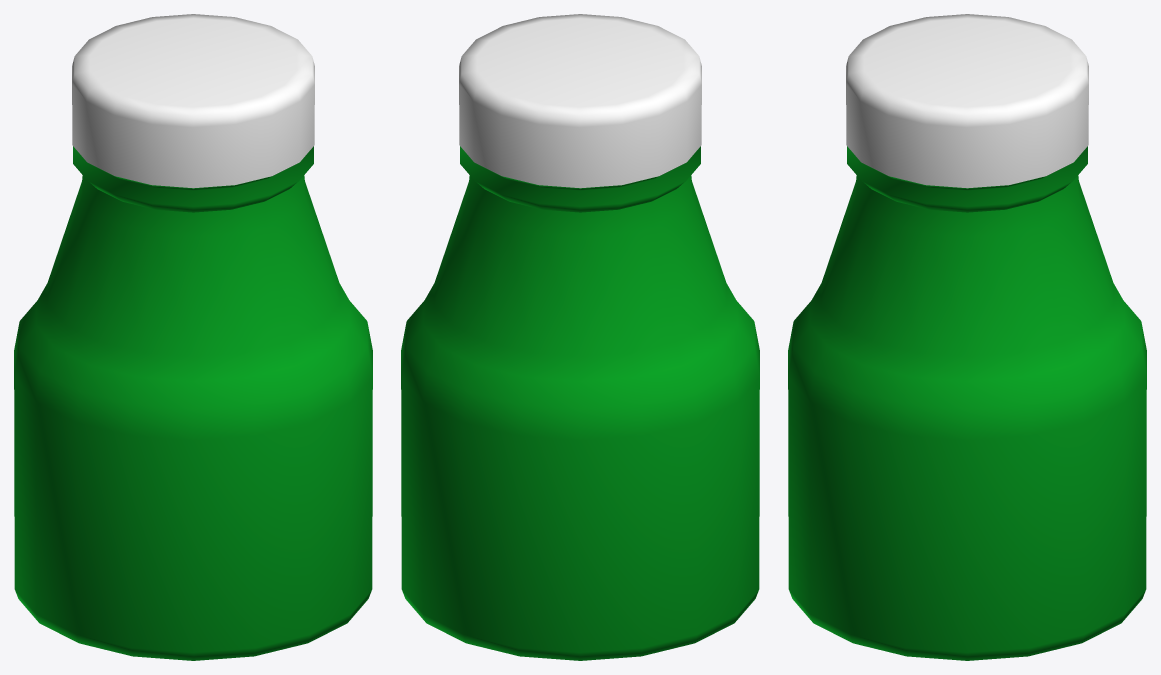
Rendered from Relish_Bottle_LP.FBX.
3 renders of one model, left to right at view 1: azimuth 30°, elevation 25°; view 2: azimuth 150°, elevation 25°; view 3: azimuth 270°, elevation 25°, orthographic.
Parts seen in each view (by area): view 1: Cylinder001; view 2: Cylinder001; view 3: Cylinder001.
Boxes of the visible parts, left/top/right/bottom form: Cylinder001: left=14, top=14, right=372, bottom=660; Cylinder001: left=401, top=14, right=759, bottom=660; Cylinder001: left=788, top=14, right=1146, bottom=660.
Bounding box in the file's own units: 35.46 × 56.54 × 34.92.
1 material, 1 textured.
